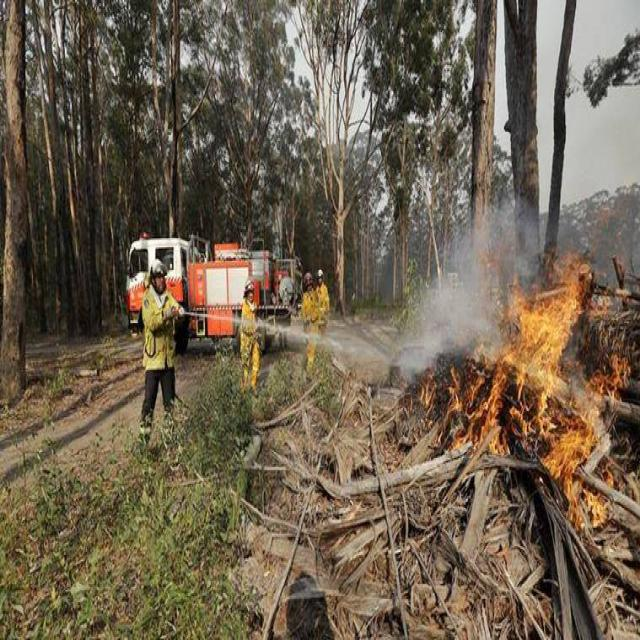fire: (515, 285, 613, 530), (426, 361, 510, 458)
smoke: (414, 260, 501, 342)
